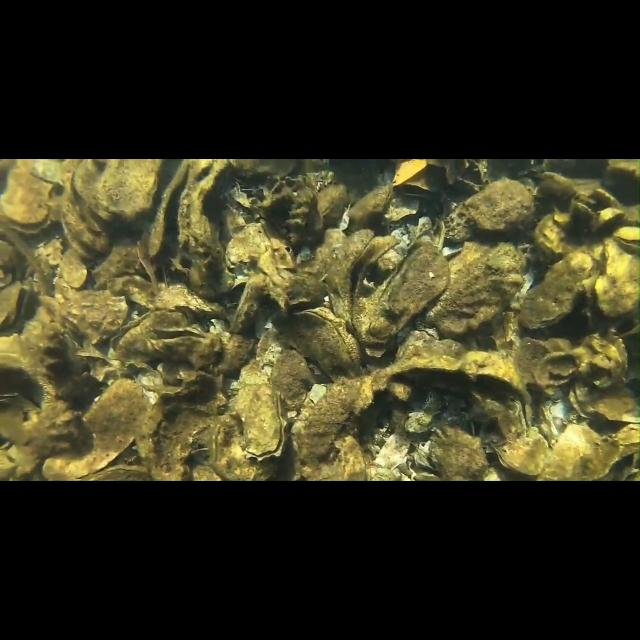Oyster-Closed: (426, 241, 525, 336), (361, 242, 450, 342), (0, 351, 79, 458), (520, 251, 594, 329), (74, 159, 161, 220), (292, 306, 360, 378), (538, 424, 620, 481), (207, 413, 274, 482), (60, 290, 128, 344), (465, 179, 534, 231), (595, 239, 640, 317), (265, 343, 317, 408), (116, 311, 181, 362), (431, 425, 488, 481), (226, 271, 266, 334), (496, 428, 549, 475), (346, 184, 392, 235), (591, 189, 625, 235), (316, 184, 349, 229)
Oyster-Open: (385, 350, 532, 398), (146, 158, 201, 261), (231, 384, 285, 456), (61, 190, 111, 258), (0, 160, 52, 224), (0, 281, 39, 336), (535, 350, 581, 385), (612, 226, 640, 254)
